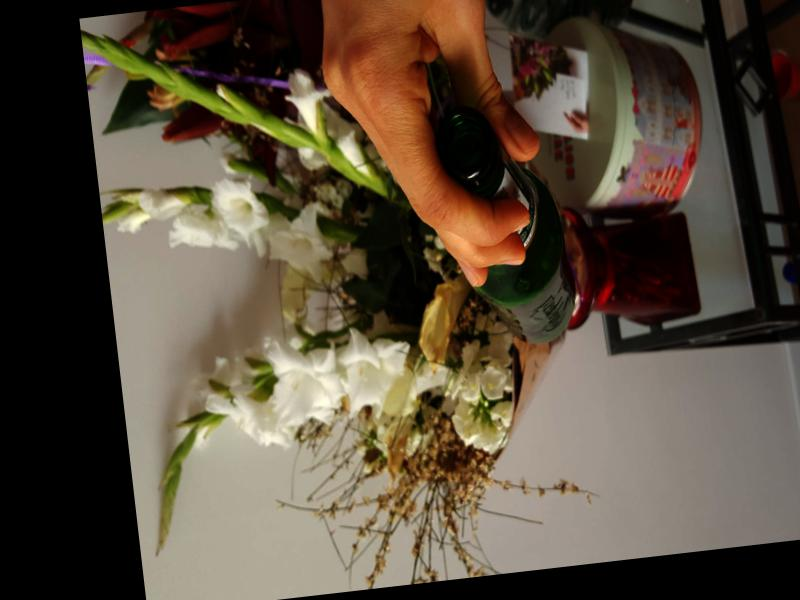Beer: (434, 97, 582, 353)
